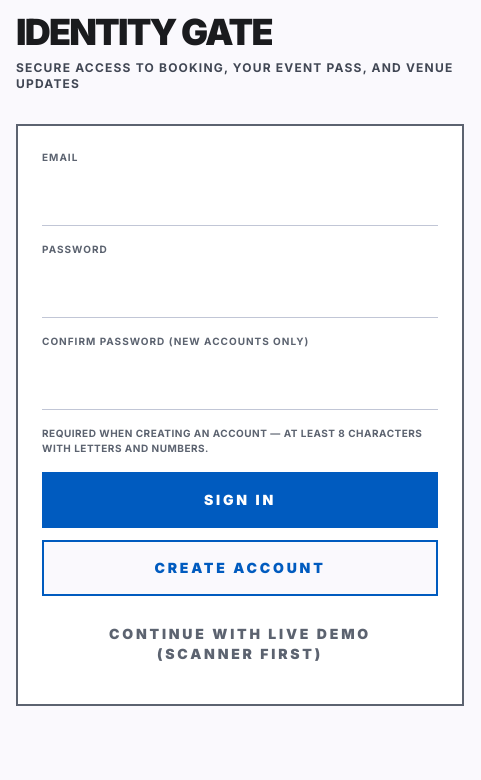
Login › shows validation when passwords do not match on register
The image size is (481, 780).
In the field labelled "Email": (240, 200) [42,173,438,226], type "a@b.com"
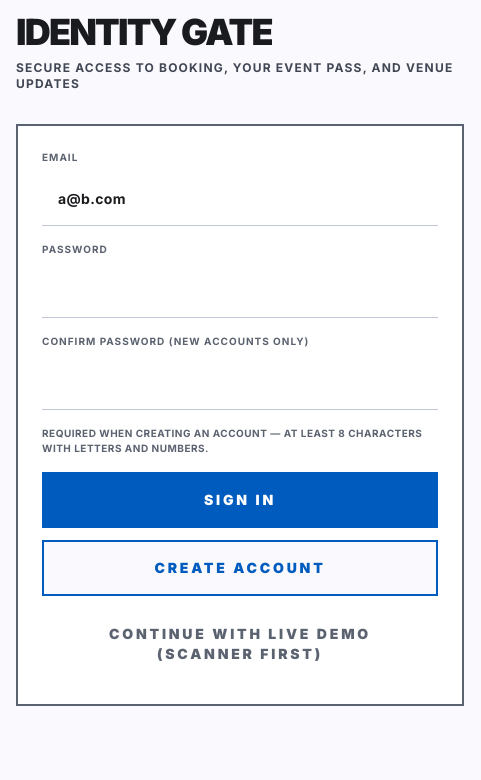
In the password field labelled "Password": (240, 292) [42,265,438,318], type "abc12345"
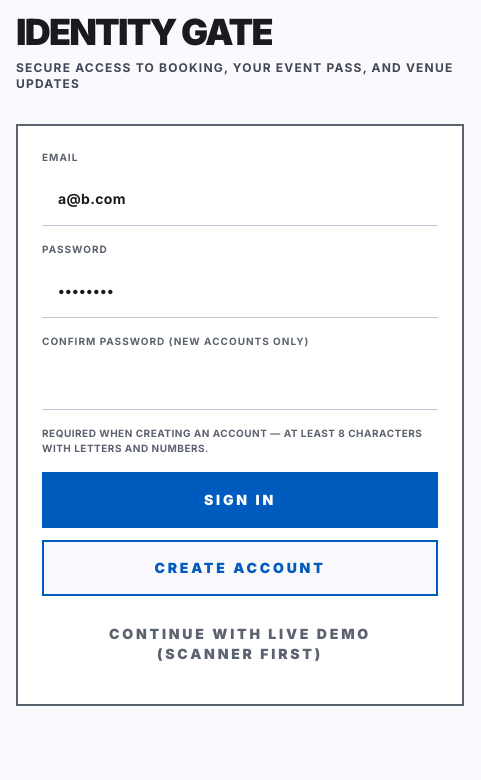
In the password field labelled "Confirm password (new accounts only)": (240, 384) [42,357,438,410], type "diff12345"
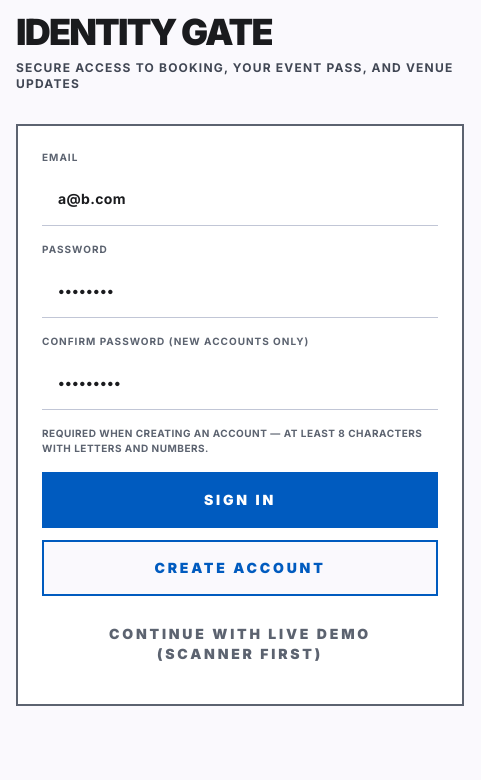
Click the button "Create Account": (240, 568) [42,540,438,596]
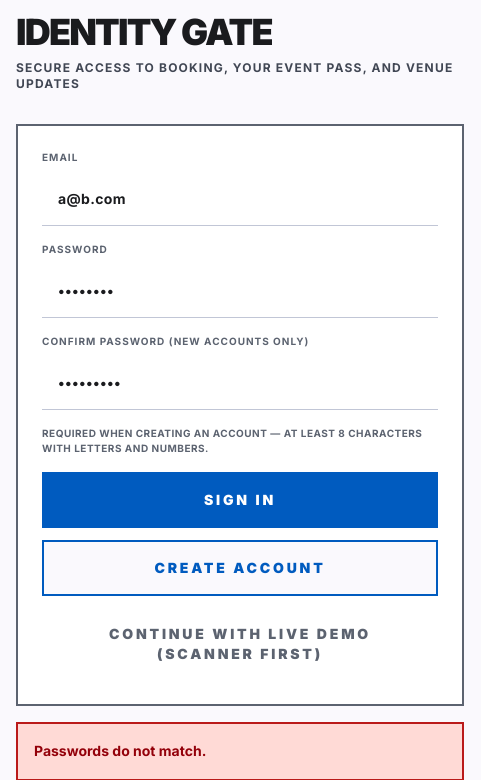
Now the message shows "do not match", box [34,742,206,759]
